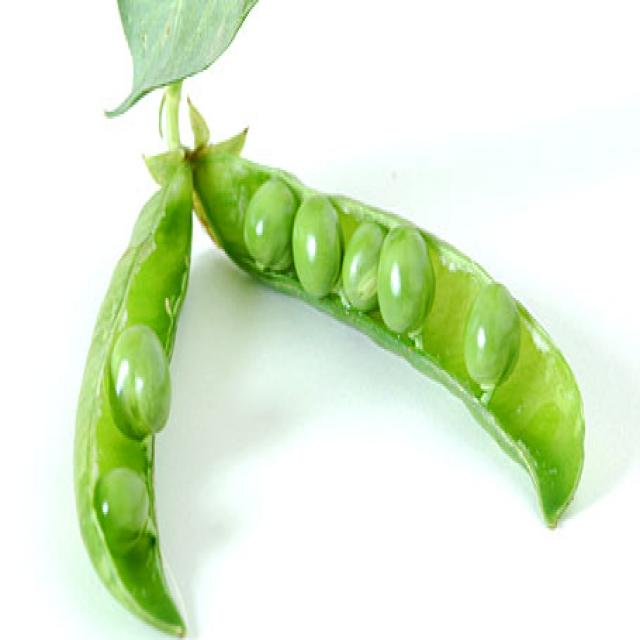Peas: (193, 130, 586, 531), (70, 170, 187, 640)
